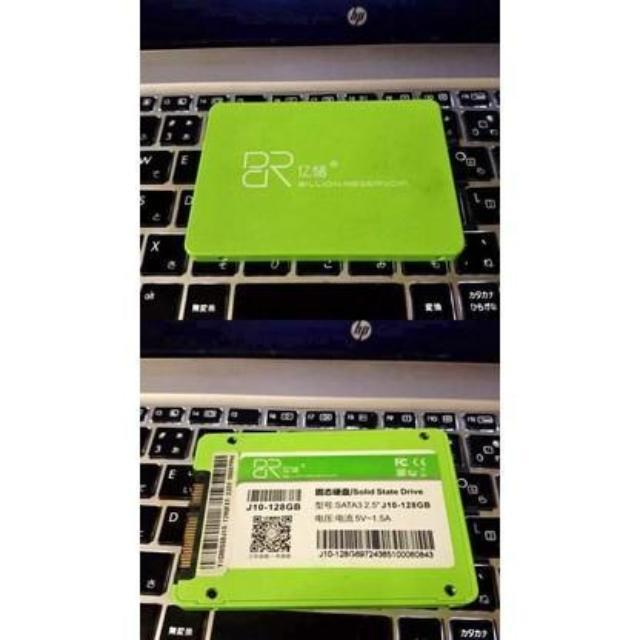DISK: (169, 434, 482, 608), (185, 97, 468, 277)
